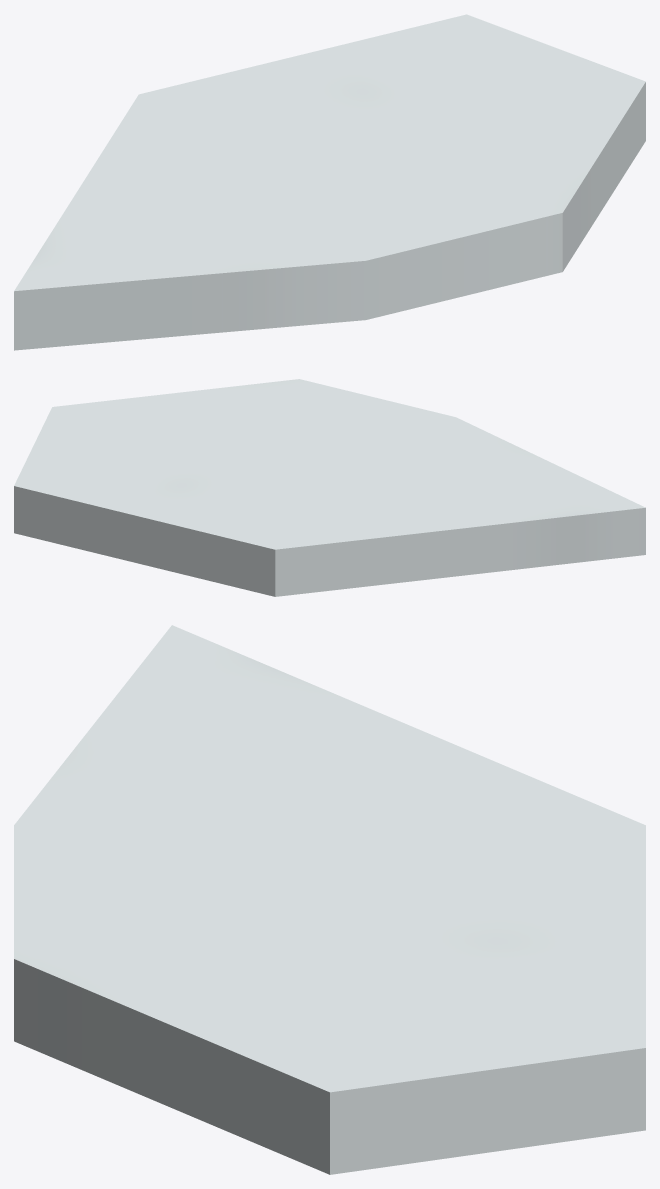
Rendered from ice2.glb.
3 renders of one model, top to bottom at view 1: azimuth 30°, elevation 25°; view 2: azimuth 150°, elevation 25°; view 3: azimuth 270°, elevation 25°, orthographic. The views are drawn at different scales.
Visible parts, largest first — view 1: ice_06; view 2: ice_06; view 3: ice_06.
Boxes of the visible parts, x1,y1,x2,y2 form: ice_06: (14,14,645,350); ice_06: (14,379,645,596); ice_06: (14,625,645,1174).
Size of the model in its own units: 4.4 by 0.3618 by 2.51.
Materials: 1 (1 with a texture image).
